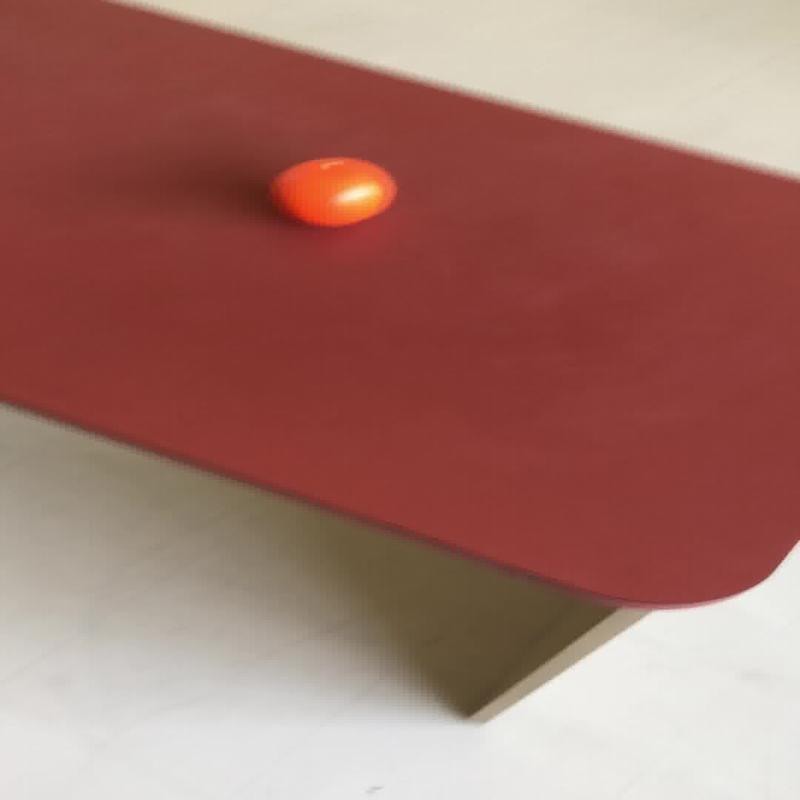orange: (268, 155, 397, 227)
